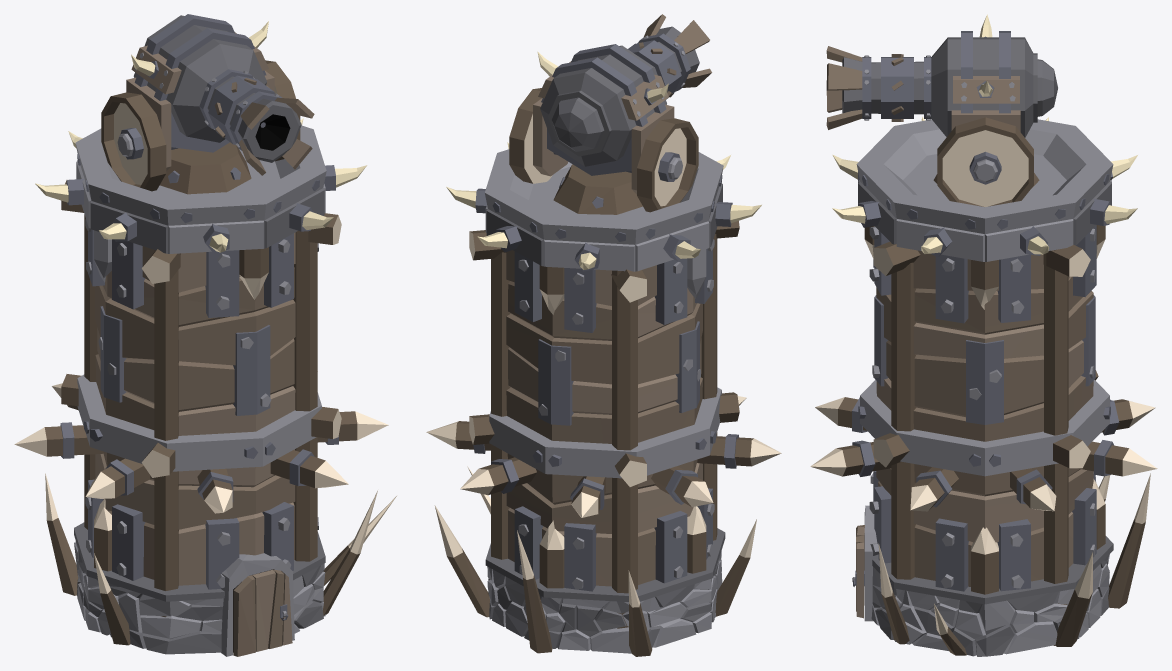
The model's file is _Cannon_tower_LVL_4.fbx.
The picture shows the model from 3 angles, left to right: view 1: azimuth 30°, elevation 25°; view 2: azimuth 150°, elevation 25°; view 3: azimuth 270°, elevation 25°; orthographic projection. The views are drawn at different scales.
Visible parts, largest first — view 1: Cannon_tower_LVL_4; view 2: Cannon_tower_LVL_4; view 3: Cannon_tower_LVL_4.
Part boxes in pixels (x1,y1,x2,y2): Cannon_tower_LVL_4: (14,14,397,656); Cannon_tower_LVL_4: (426,14,781,656); Cannon_tower_LVL_4: (810,14,1157,656).
Bounding box in the file's own units: 998 × 1722 × 946.
